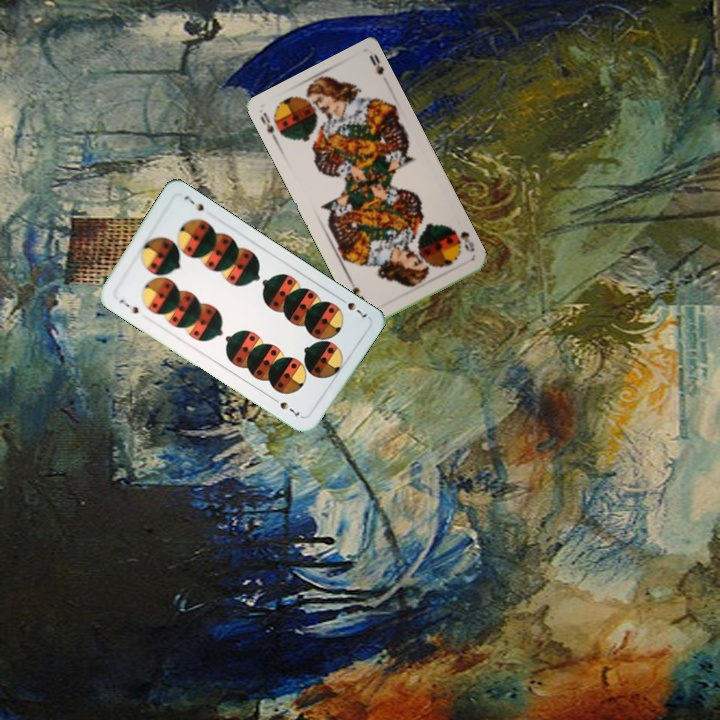S7: (335, 293, 370, 320), (115, 295, 142, 317)
SO: (256, 108, 281, 147), (456, 227, 477, 255)
